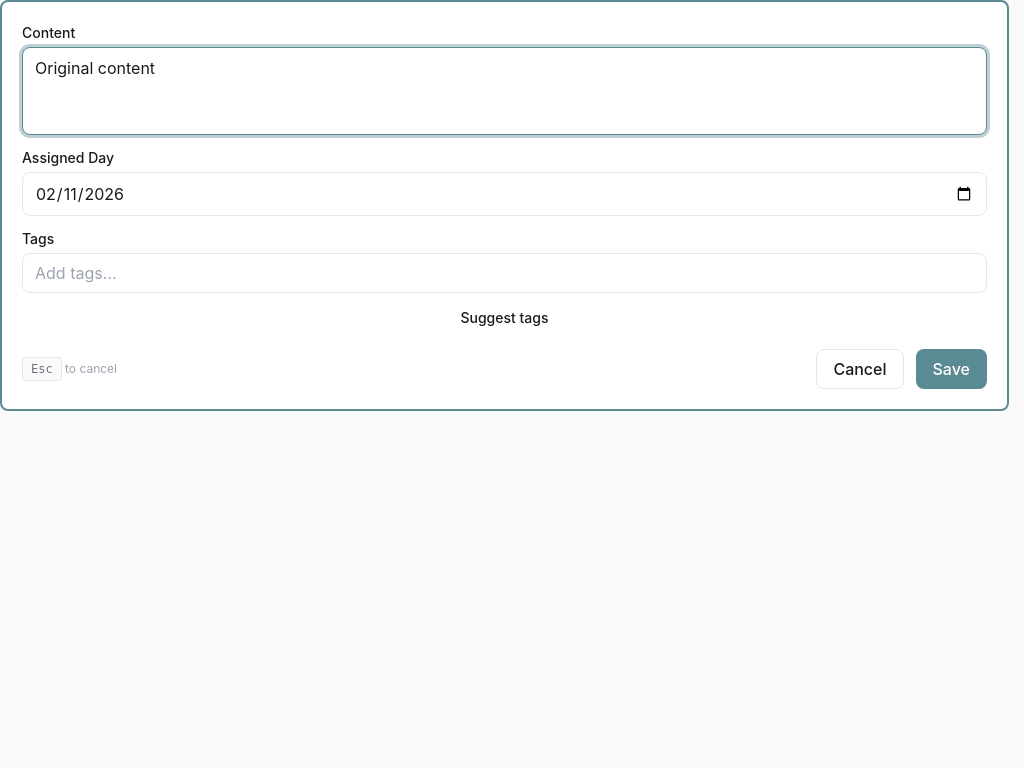
Test: EntryDayViewEntryEditor › Cancel button with unsaved changes shows a confirm dialog before cancelling
The image size is (1024, 768).
Step 1. Type " more" into the text box labelled "Content" → (504, 91), box [22,47,987,135]
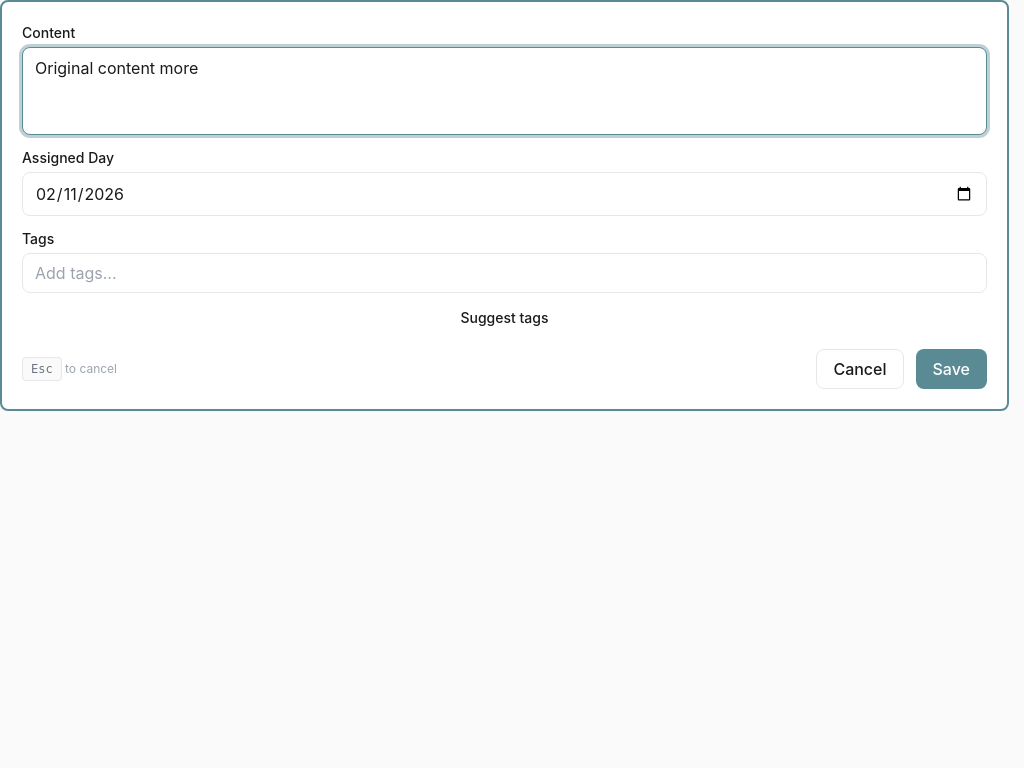
Step 2. Click the button "Cancel" → (860, 369), box [816,349,904,389]
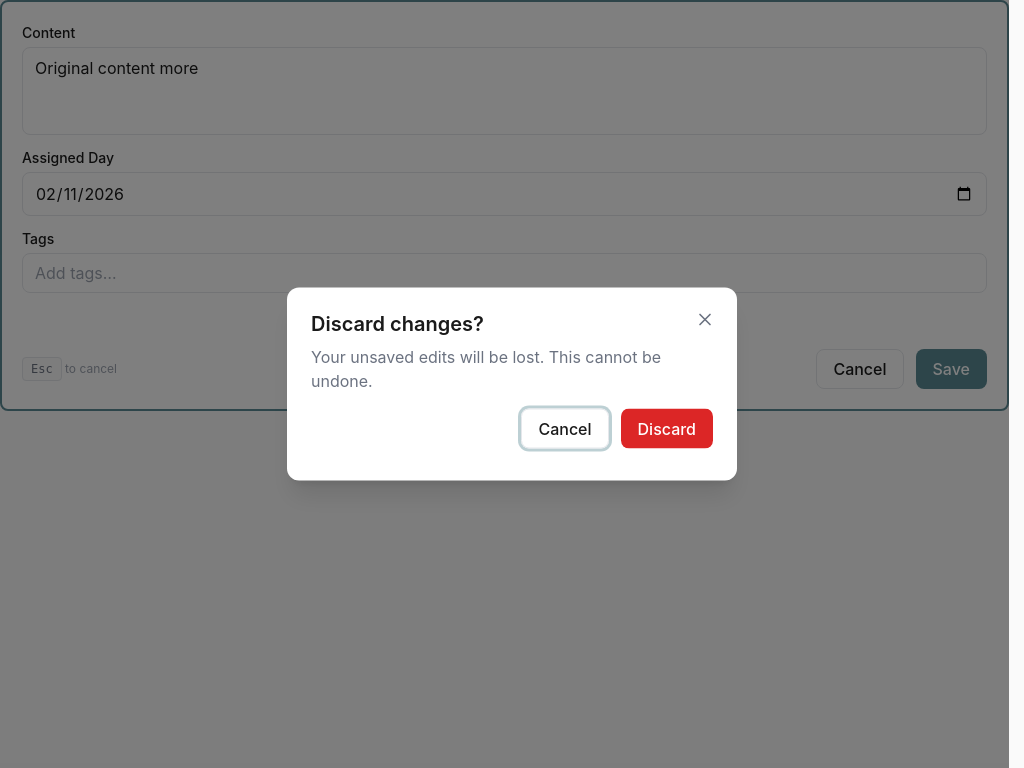
Check: the dialog "Discard changes" is shown, box [287,288,737,480]
